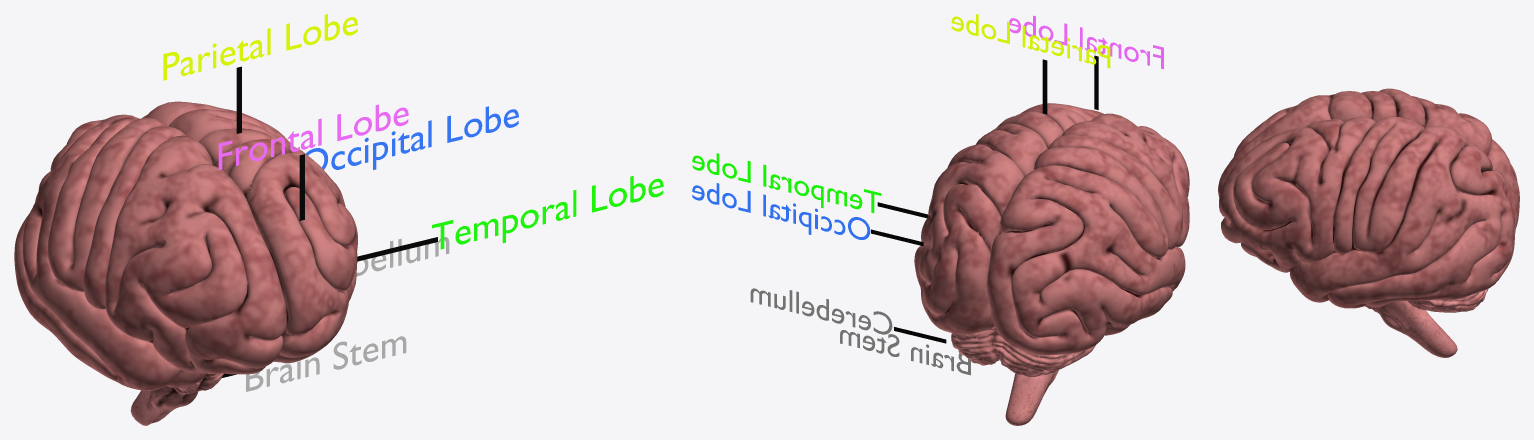
The model's file is Brain.gltf.
The picture shows the model from 3 angles, left to right: view 1: azimuth 30°, elevation 25°; view 2: azimuth 150°, elevation 25°; view 3: azimuth 270°, elevation 25°; orthographic projection. The views are drawn at different scales.
Visible parts, largest first — view 1: BRAIN_LOW, Text.002, BRAIN, Text.004, Text.005, Text.001, Text, Text.003; view 2: BRAIN_LOW, cerebellum, BRAIN, Text.002, Text.004, Text.005, Text.003, Text.001, Text; view 3: BRAIN_LOW, BRAIN, cerebellum.
Boxes of the visible parts, x1,y1,x2,y2 form: BRAIN_LOW: [14, 101, 357, 390]; Text.002: [432, 176, 663, 249]; BRAIN: [130, 373, 223, 425]; Text.004: [305, 106, 518, 169]; Text.005: [163, 14, 357, 80]; Text.001: [218, 104, 408, 169]; Text: [246, 336, 406, 391]; Text.003: [356, 237, 449, 276]; BRAIN_LOW: [914, 103, 1189, 355]; cerebellum: [951, 326, 1095, 376]; BRAIN: [1005, 370, 1058, 425]; Text.002: [692, 153, 881, 212]; Text.004: [692, 183, 870, 239]; Text.005: [951, 14, 1110, 68]; Text.003: [750, 288, 892, 334]; Text.001: [1009, 15, 1163, 69]; Text: [840, 330, 970, 375]; BRAIN_LOW: [1218, 88, 1519, 308]; BRAIN: [1364, 301, 1457, 357]; cerebellum: [1407, 289, 1488, 312].
Bounding box in the file's own units: 9.64 × 6.59 × 5.55.
Materials: 9 (3 with a texture image).
